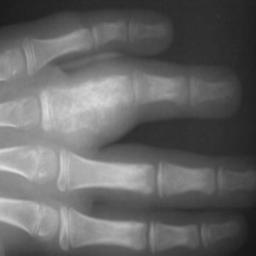cancer: (47, 74, 132, 132)
